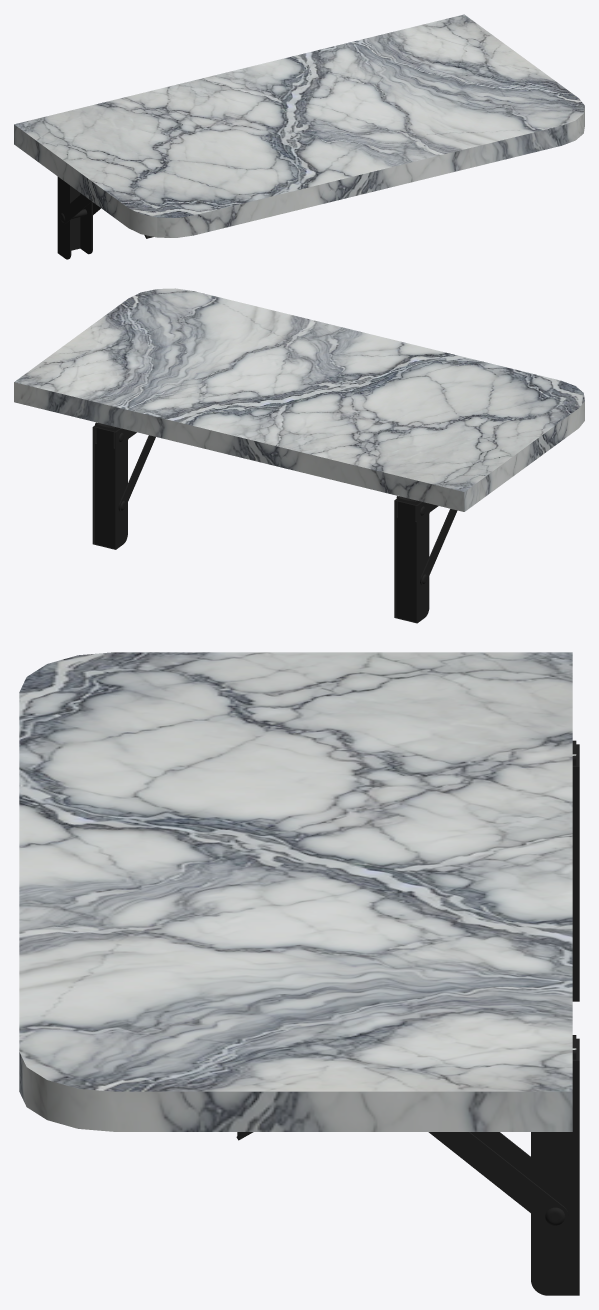
Rendered from countertop-extension-one.glb.
3 renders of one model, top to bottom at view 1: azimuth 30°, elevation 25°; view 2: azimuth 150°, elevation 25°; view 3: azimuth 270°, elevation 25°, orthographic. The views are drawn at different scales.
Parts seen in each view (by area): view 1: Cube.020; view 2: Cube.020; view 3: Cube.020.
Part boxes in pixels (box(x1,y1,x2,y2)): Cube.020: box(14, 14, 584, 259); Cube.020: box(14, 288, 584, 623); Cube.020: box(19, 652, 579, 1295).
Bounding box in the file's own units: 0.4699 × 0.1408 × 0.2531.
Materials: 2 (1 with a texture image).
